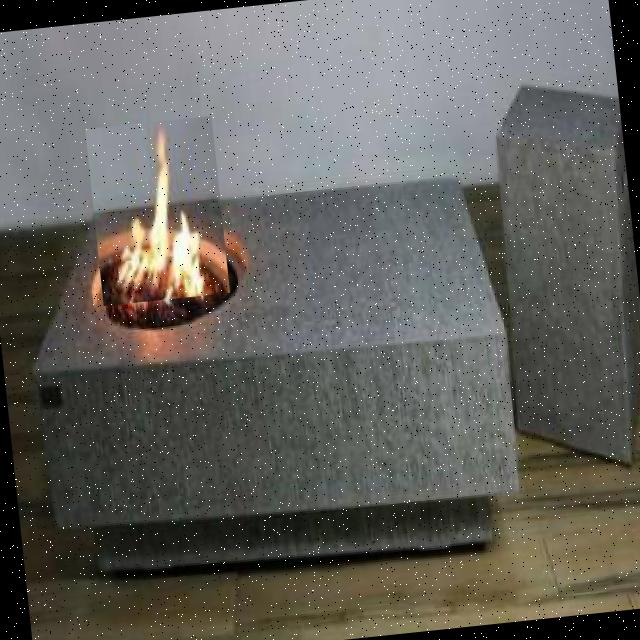fire: (84, 116, 230, 306)
